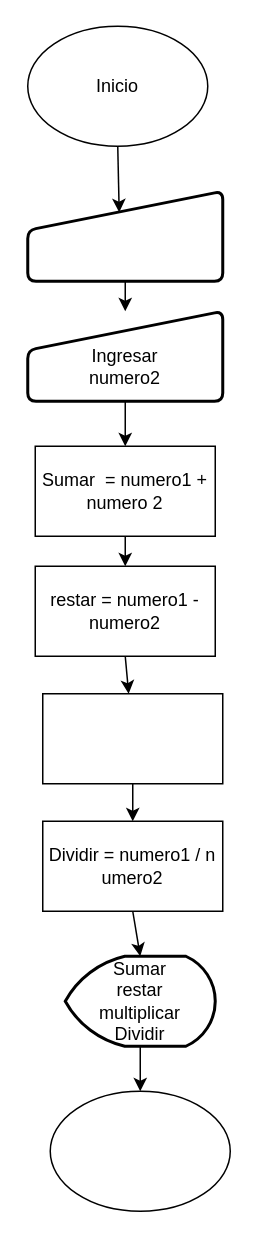
This 257x1238 diagram has some shape labels left out. The centre of each missing label's shape, as x and y in pixels:
fin: (139,1150)
Ingresar numero1: (125,235)
multiplicar = numero1 * numero2: (132,738)
